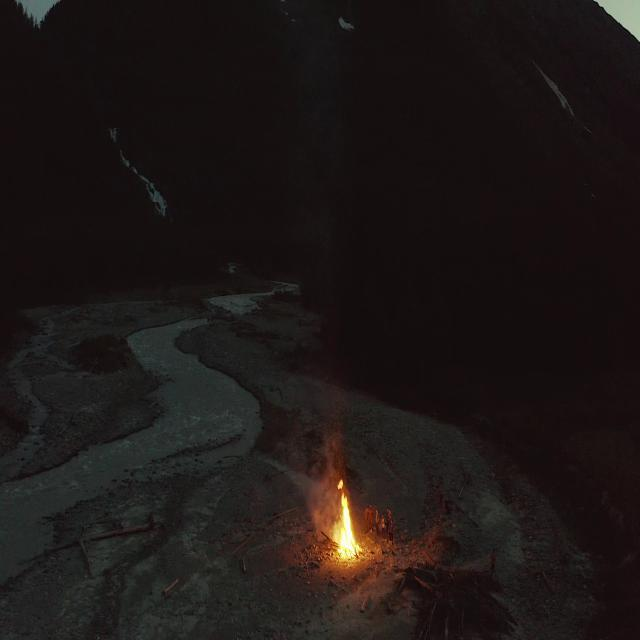Fire: (328, 474, 361, 564)
